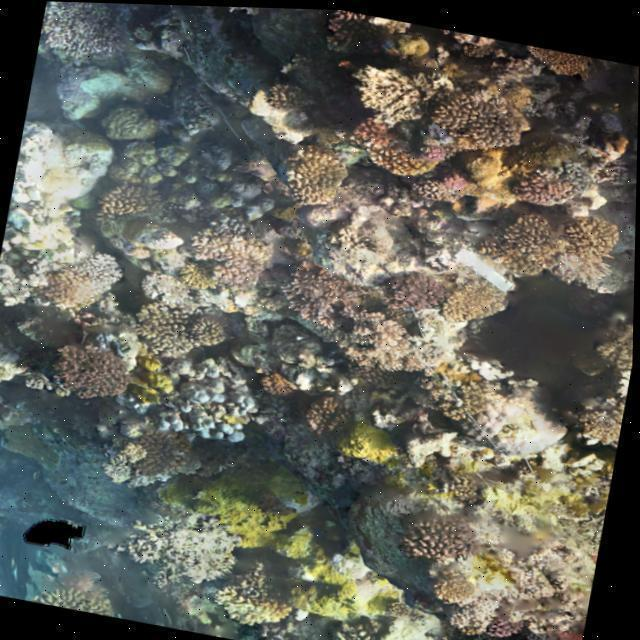Bleached Coral: (0, 115, 138, 255), (121, 339, 261, 460), (454, 361, 576, 479), (117, 230, 201, 311)
Healthy Coral: (301, 34, 612, 325)
